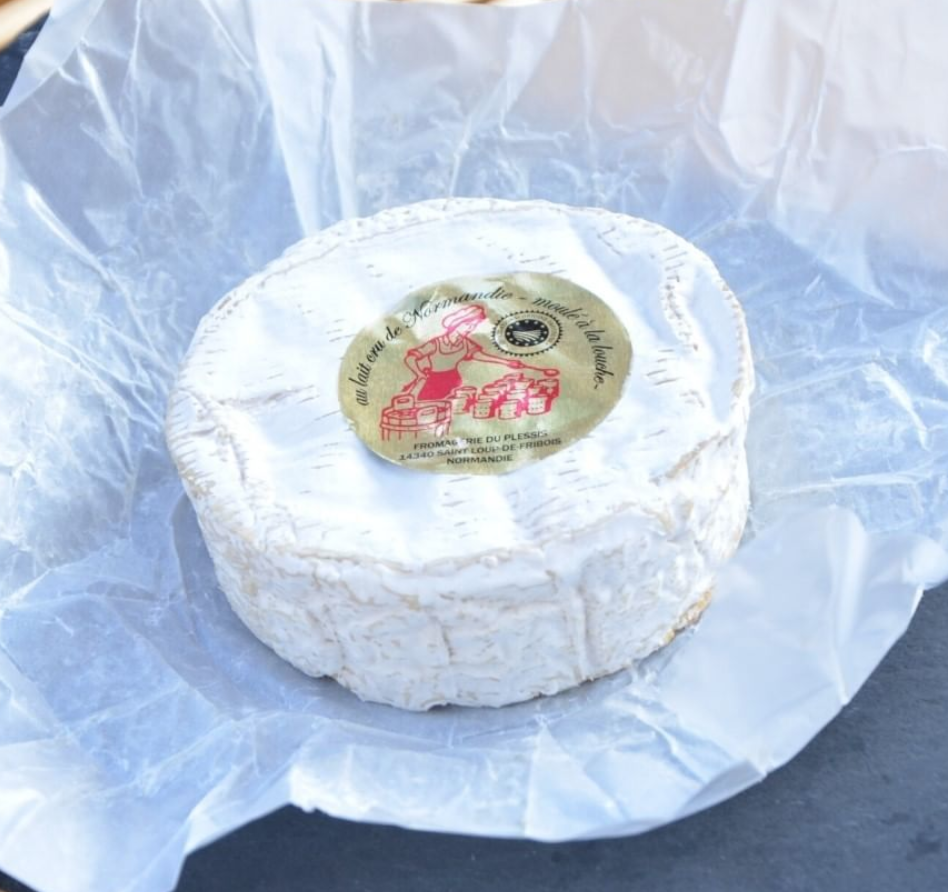camembert: (161, 196, 762, 713)
